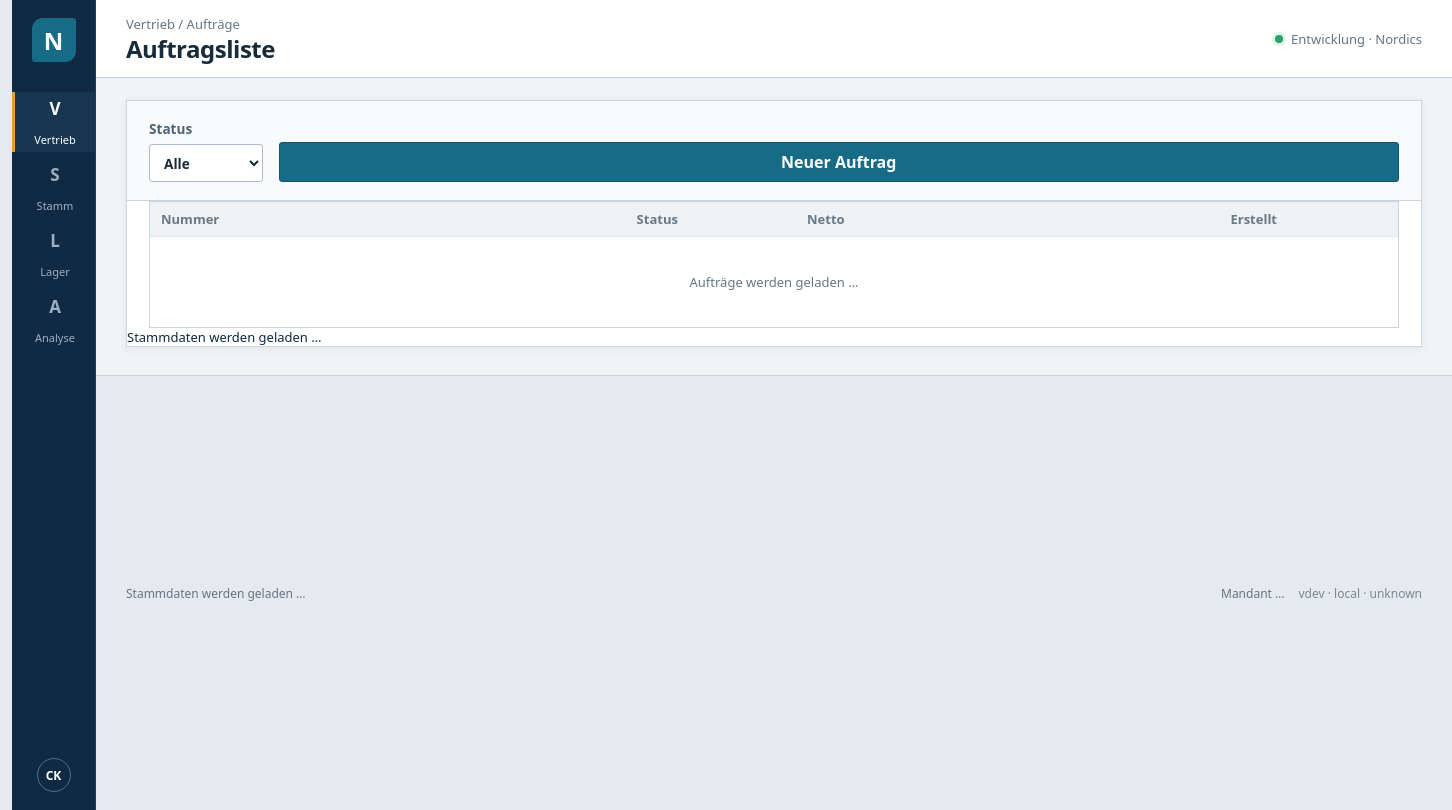
Test: reuses the same Idempotency-Key when a receipt request fails and is retried
Expected: the heading "Auftragsliste" is shown, x1=126 y1=36 x2=275 y2=62
Click the button titled "Lager" at [54, 254], box x1=12 y1=224 x2=95 y2=284
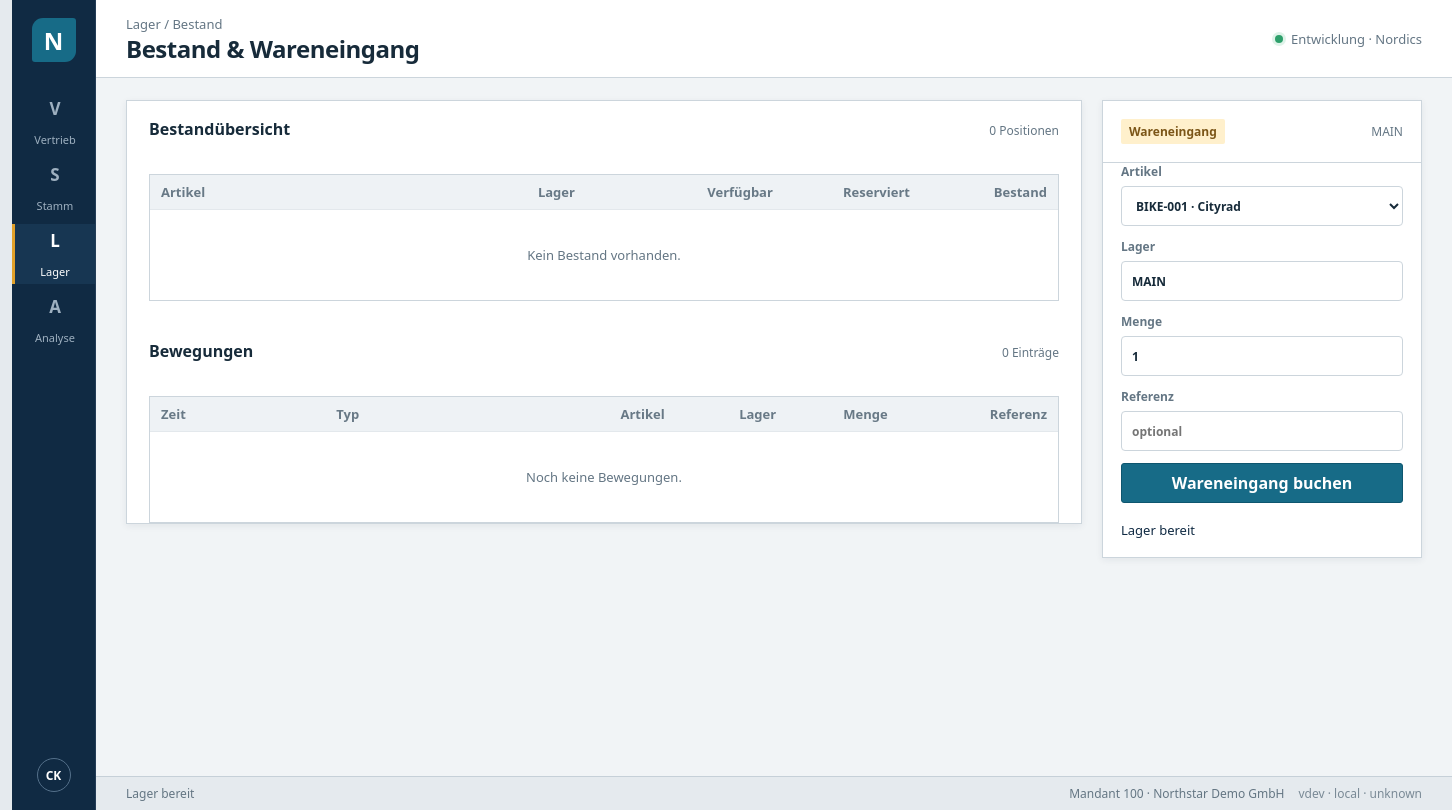
Expected: the heading "Bestand & Wareneingang" is shown, x1=126 y1=36 x2=420 y2=62
Note: While the workspace loads, the submit button reads "Bucht …".
Click the button "Wareneingang buchen" at [1262, 483], box x1=1121 y1=463 x2=1403 y2=503
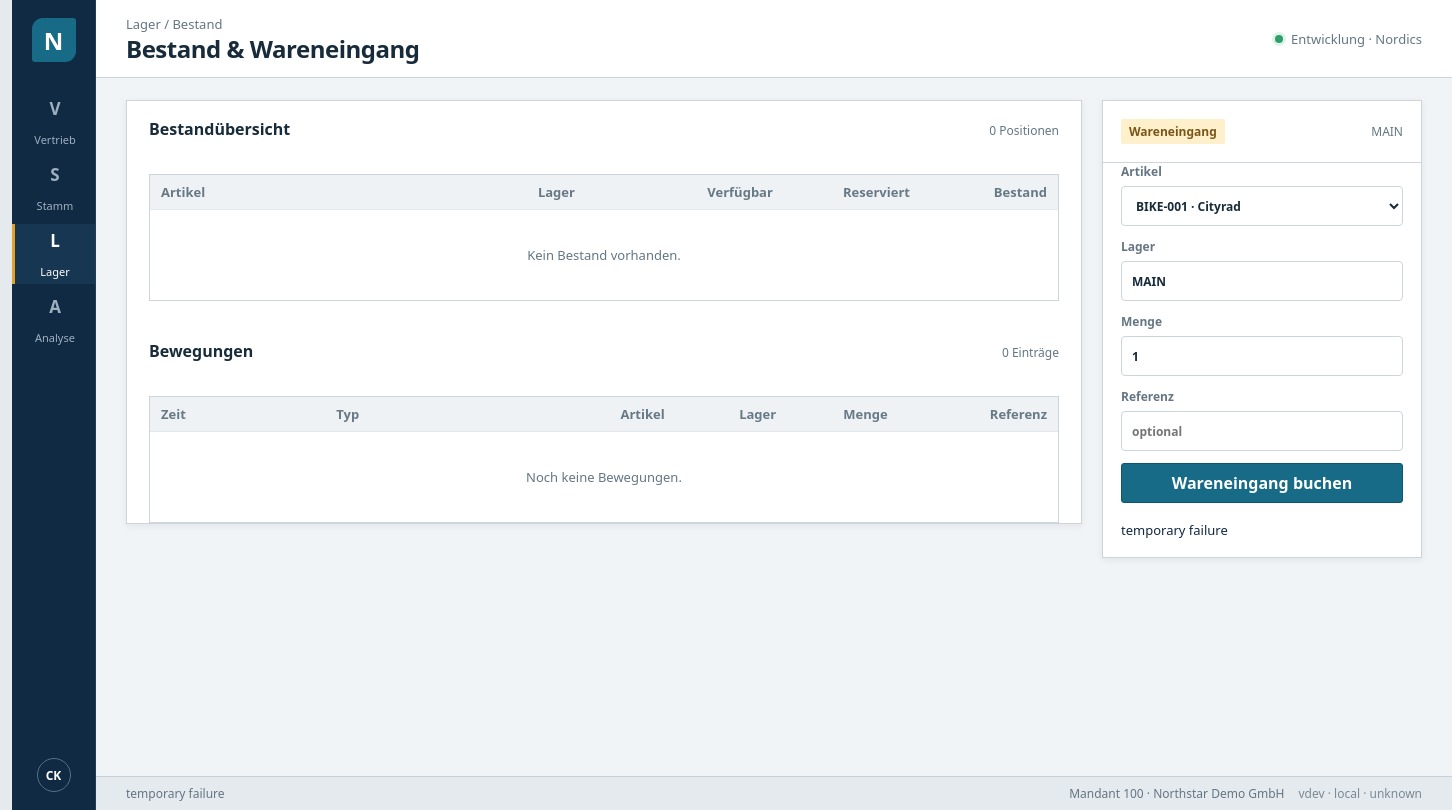
Expected: the text "temporary failure" below "Einträge" is shown, x1=1121 y1=521 x2=1228 y2=539
Click the button "Wareneingang buchen" at [1262, 483], box x1=1121 y1=463 x2=1403 y2=503
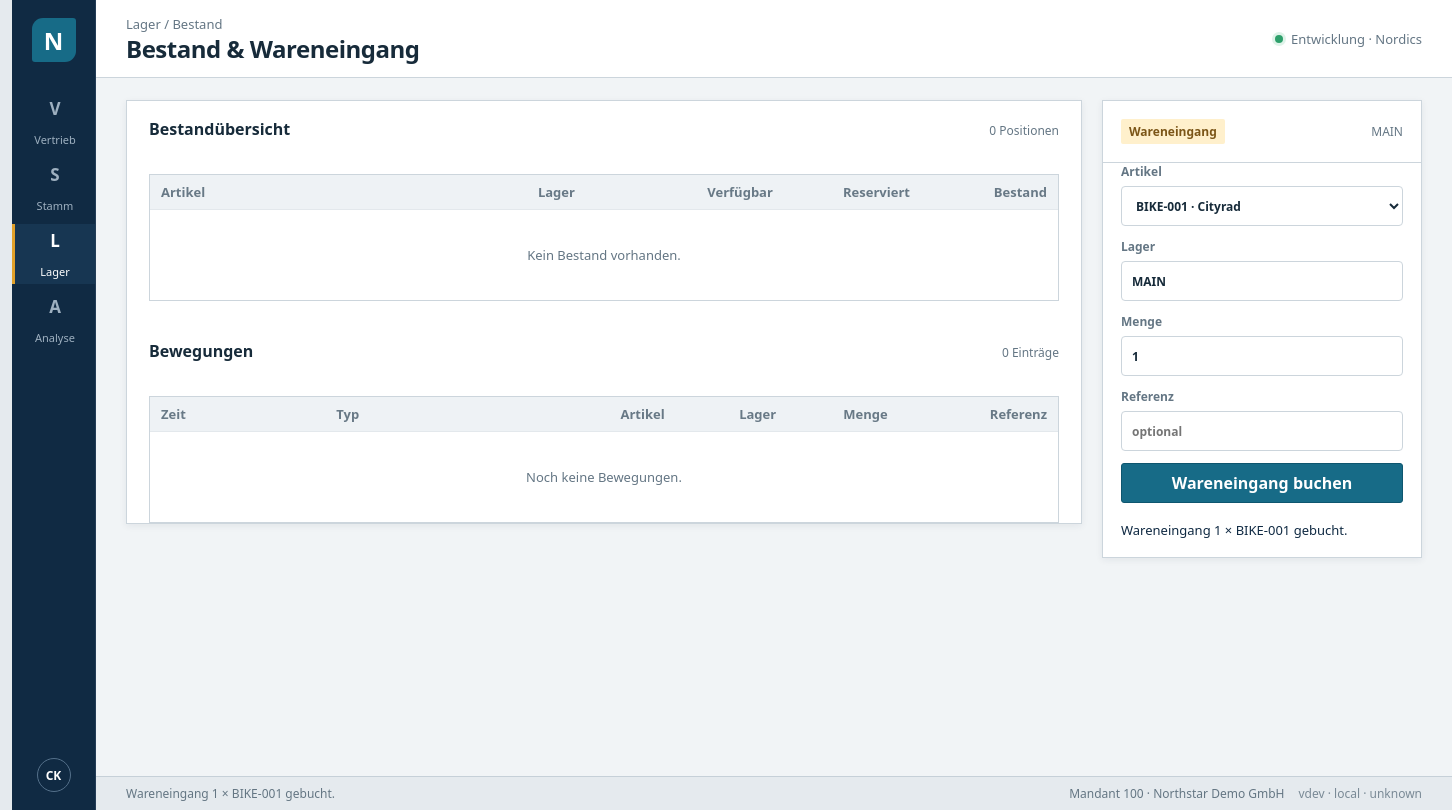
Expected: the text "Wareneingang 1 × BIKE-001 gebucht." below "Einträge" is shown, x1=1121 y1=521 x2=1348 y2=539
